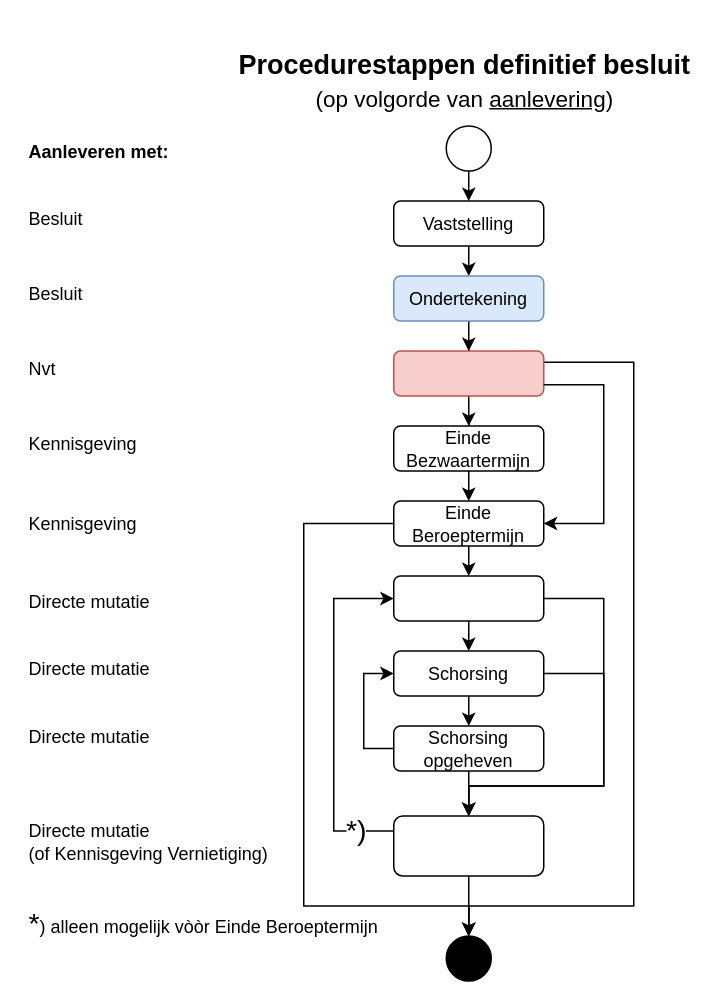
Some shapes in this 726 by 1007 pixel diagram are drawn without their labels. Each missing label, with the centre of its shape:
Beroep Ingesteld: point (468, 597)
Beroep(en) definitief afgedaan: point (468, 845)
Publicatie: point (468, 373)
